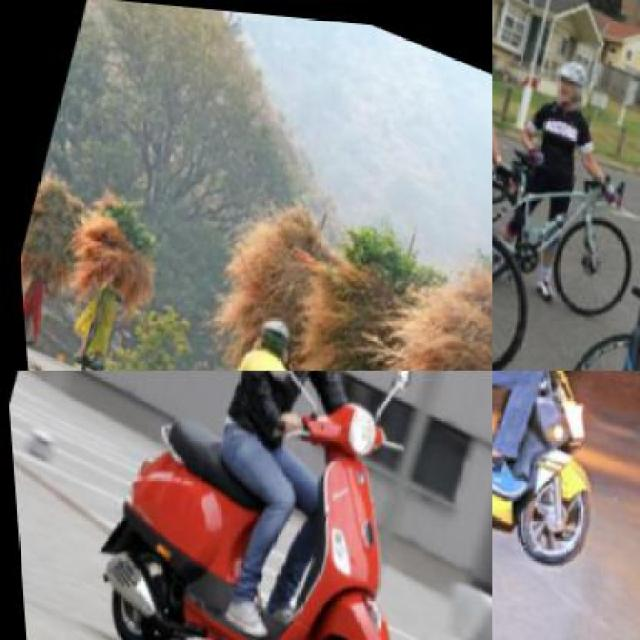With Helmet: (538, 40, 596, 108), (245, 303, 293, 357)
